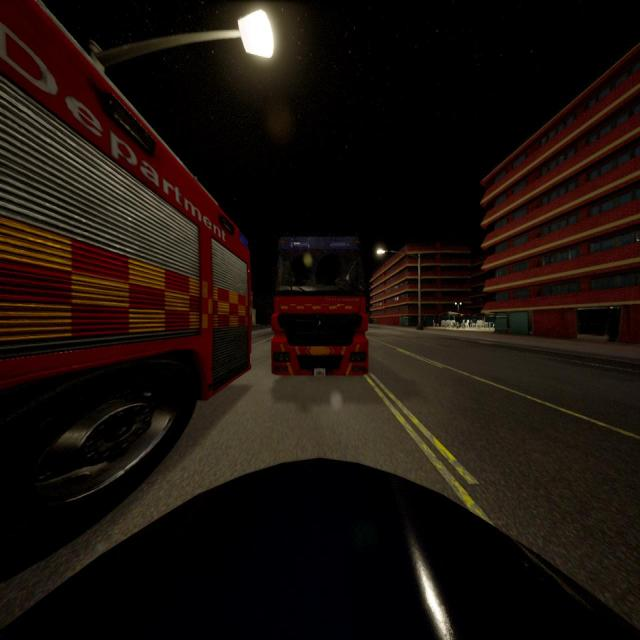Vehicle: (0, 0, 249, 578), (0, 456, 640, 640), (274, 241, 366, 373)
